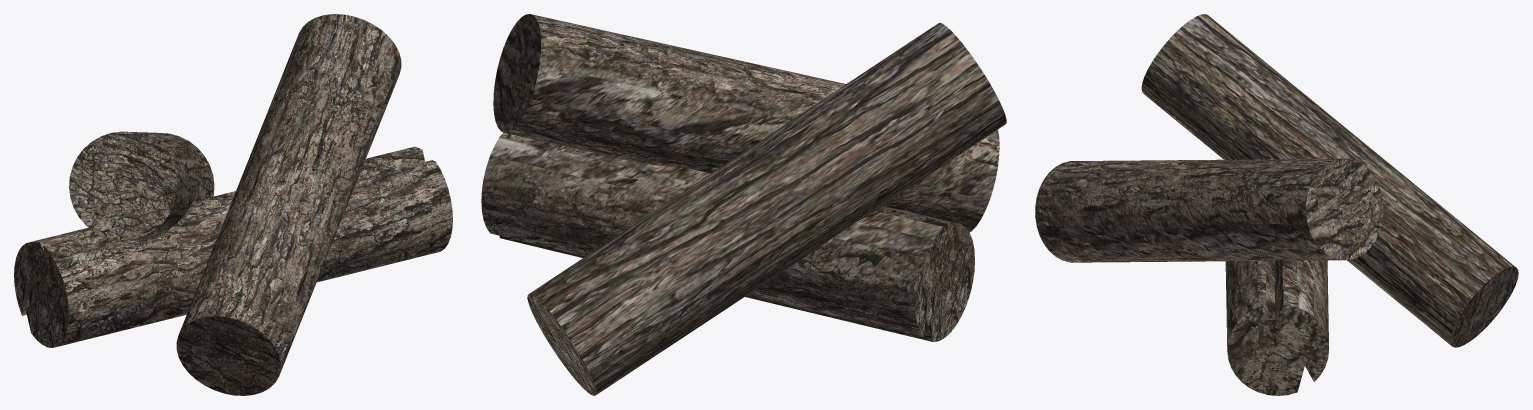
File: CampLogs.fbx
3 views of the same model, side by side, from view 1: azimuth 30°, elevation 25°; view 2: azimuth 150°, elevation 25°; view 3: azimuth 270°, elevation 25° (orthographic). The views are drawn at different scales.
Visible parts, largest first — view 1: Cylinder.003_Material_0; view 2: Cylinder.003_Material_0; view 3: Cylinder.003_Material_0.
Boxes of the visible parts, x1,y1,x2,y2 form: Cylinder.003_Material_0: (14,14,452,395); Cylinder.003_Material_0: (481,14,1006,395); Cylinder.003_Material_0: (1035,14,1518,395).
Bounding box in the file's own units: 113 × 70.75 × 127.
